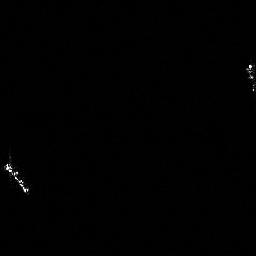ship: (1, 160, 31, 195), (244, 62, 256, 92)
